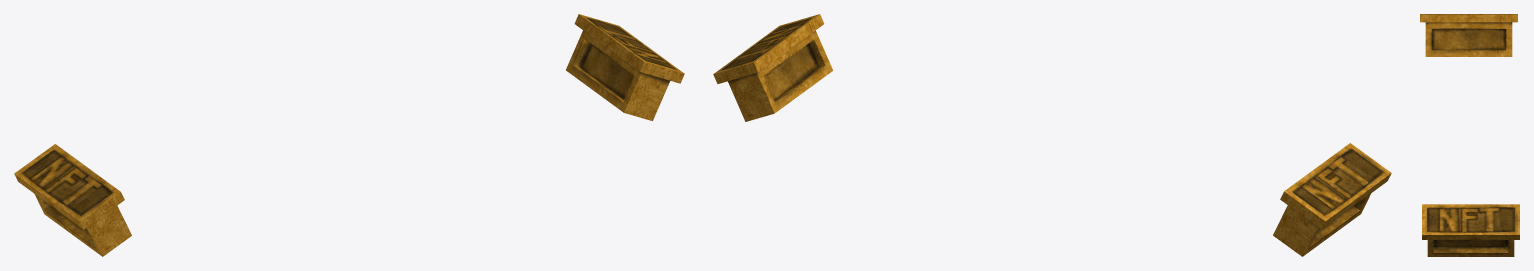
Rendered from HANDS_CHIBI_BRASS_KNUCKLES_NFT.fbx.
3 renders of one model, left to right at view 1: azimuth 30°, elevation 25°; view 2: azimuth 150°, elevation 25°; view 3: azimuth 270°, elevation 25°, orthographic. The views are drawn at different scales.
Parts seen in each view (by area): view 1: HANDS_CHIBI_BRASS_KNUCKLES_NFT_LEFT, HANDS_CHIBI_BRASS_KNUCKLES_NFT_RIGHT; view 2: HANDS_CHIBI_BRASS_KNUCKLES_NFT_LEFT, HANDS_CHIBI_BRASS_KNUCKLES_NFT_RIGHT; view 3: HANDS_CHIBI_BRASS_KNUCKLES_NFT_LEFT, HANDS_CHIBI_BRASS_KNUCKLES_NFT_RIGHT.
Boxes of the visible parts, x1=… form: HANDS_CHIBI_BRASS_KNUCKLES_NFT_LEFT: x1=566, y1=14, x2=684, y2=120; HANDS_CHIBI_BRASS_KNUCKLES_NFT_RIGHT: x1=14, y1=144, x2=131, y2=256; HANDS_CHIBI_BRASS_KNUCKLES_NFT_LEFT: x1=713, y1=14, x2=832, y2=121; HANDS_CHIBI_BRASS_KNUCKLES_NFT_RIGHT: x1=1273, y1=143, x2=1391, y2=256; HANDS_CHIBI_BRASS_KNUCKLES_NFT_LEFT: x1=1422, y1=204, x2=1519, y2=256; HANDS_CHIBI_BRASS_KNUCKLES_NFT_RIGHT: x1=1420, y1=14, x2=1517, y2=56.
Size of the model in its own units: 0.1134 by 0.0116 by 0.0217.
